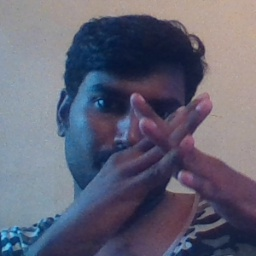W: (111, 76, 234, 208)
